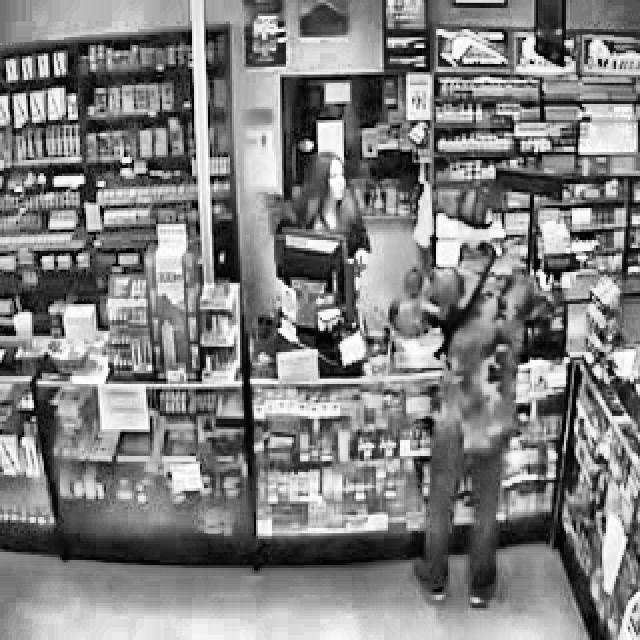robbery: (386, 190, 558, 614)
